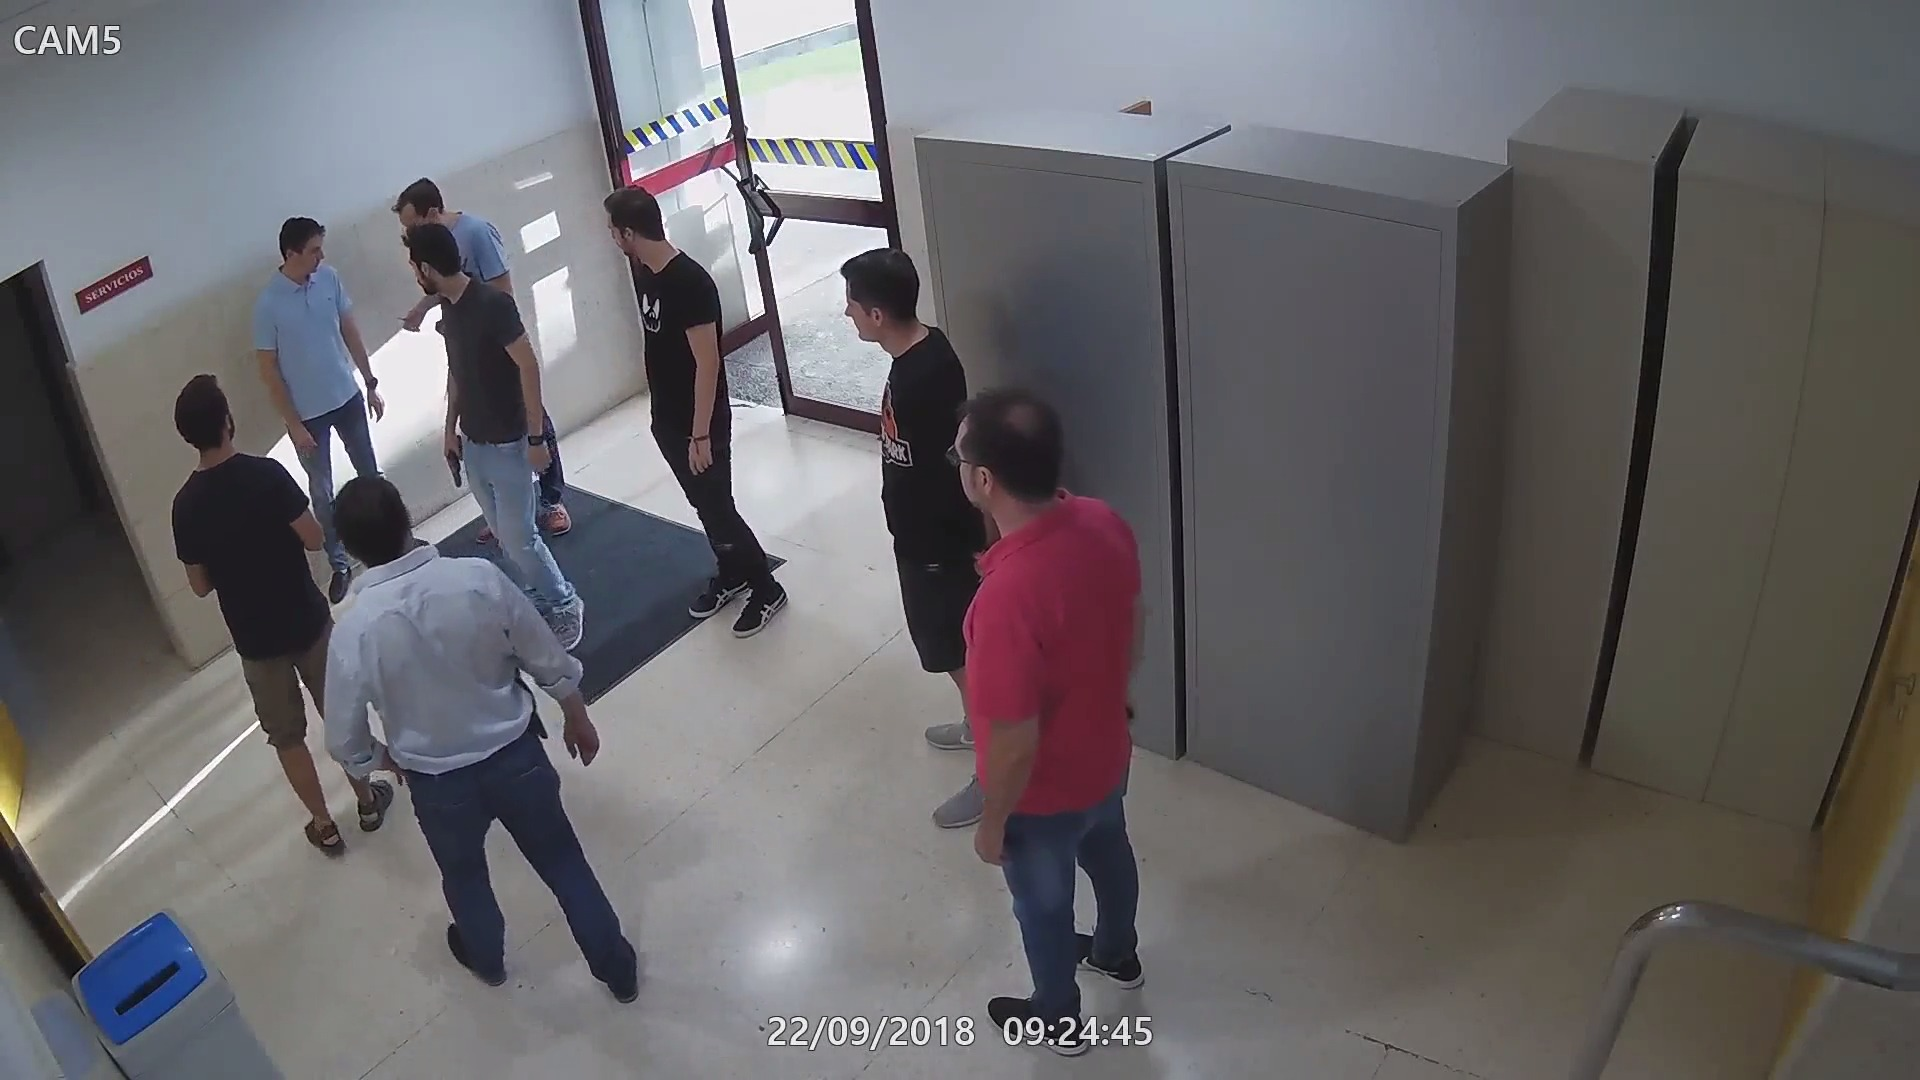Handgun: (514, 676, 551, 742), (440, 429, 465, 493)
